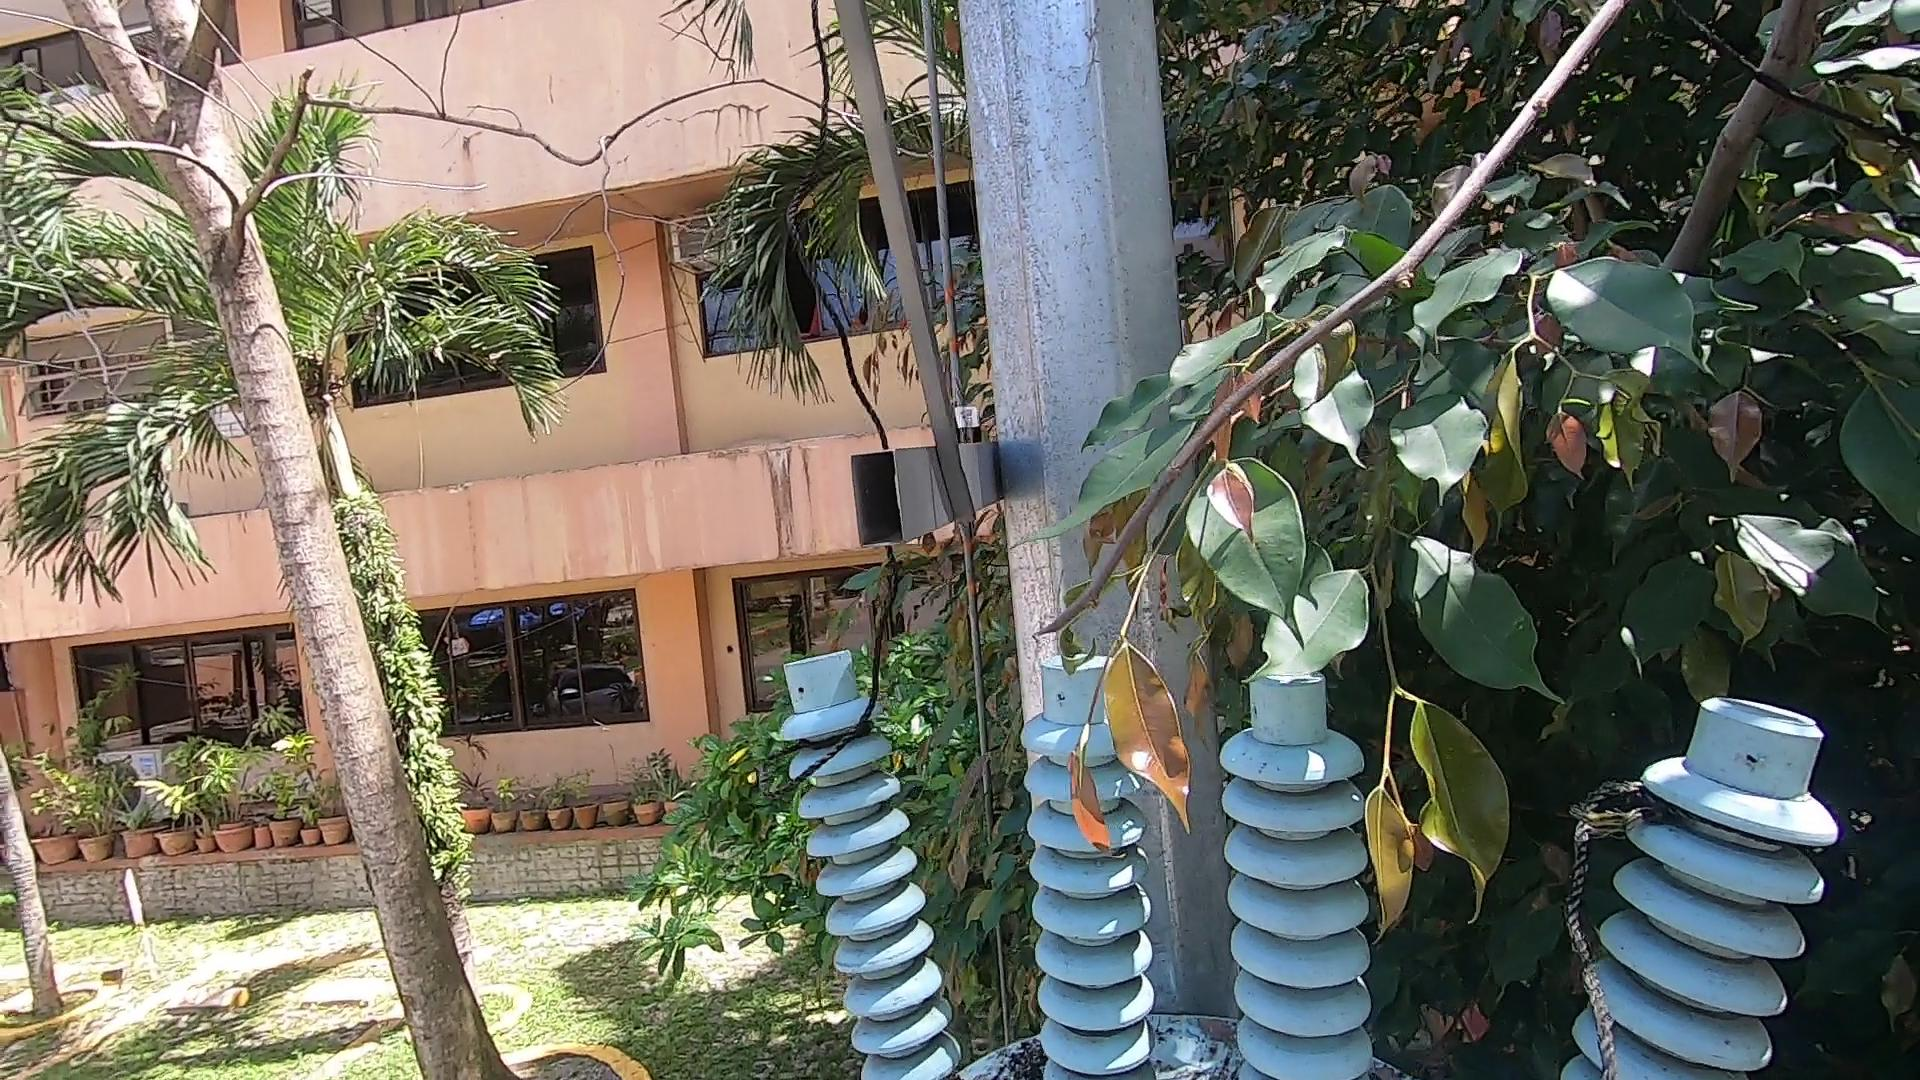tree branch: (1035, 1, 1849, 661)
